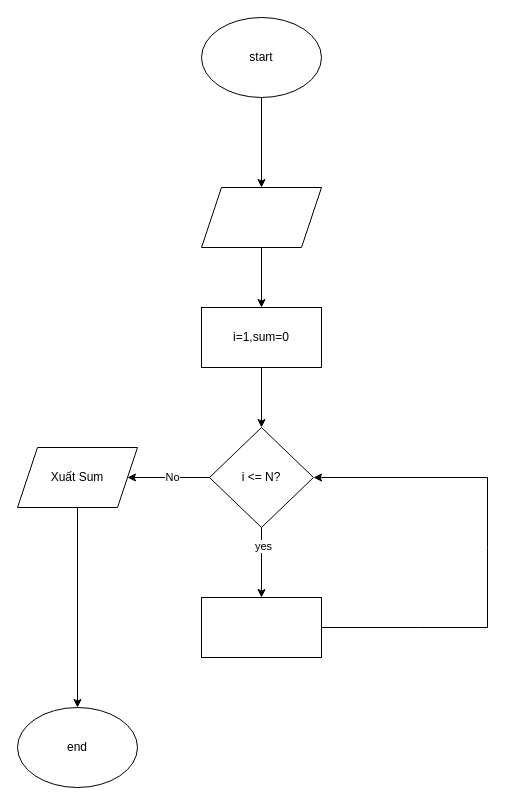
Image size: 513x805. Some labels were removed from this diagram. The centre of each missing label's shape, as x and y in pixels:
Nhập N: (261,217)
sum = i + sum i = i + 1: (261,627)
